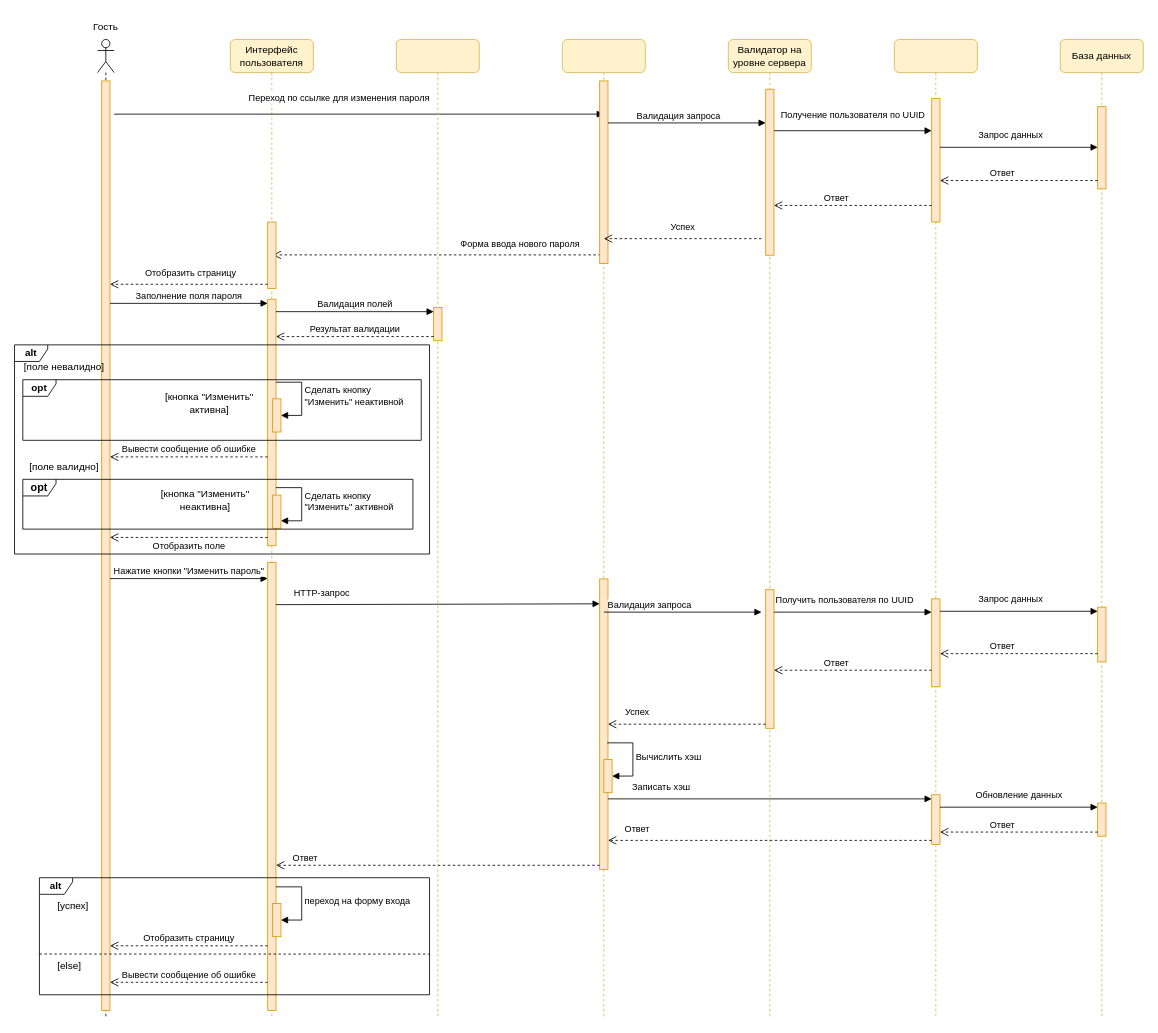
Image size: 1158x1033. Some labels were removed from this diagram. The box of each missing label's shape, as (x1, y1, x2, y2) in pixels:
Валидатор на уровне интерфейса: (395, 39, 479, 1019)
Коннектор с базой данных: (893, 39, 977, 1019)
Обработчик команд: (561, 39, 645, 1019)
